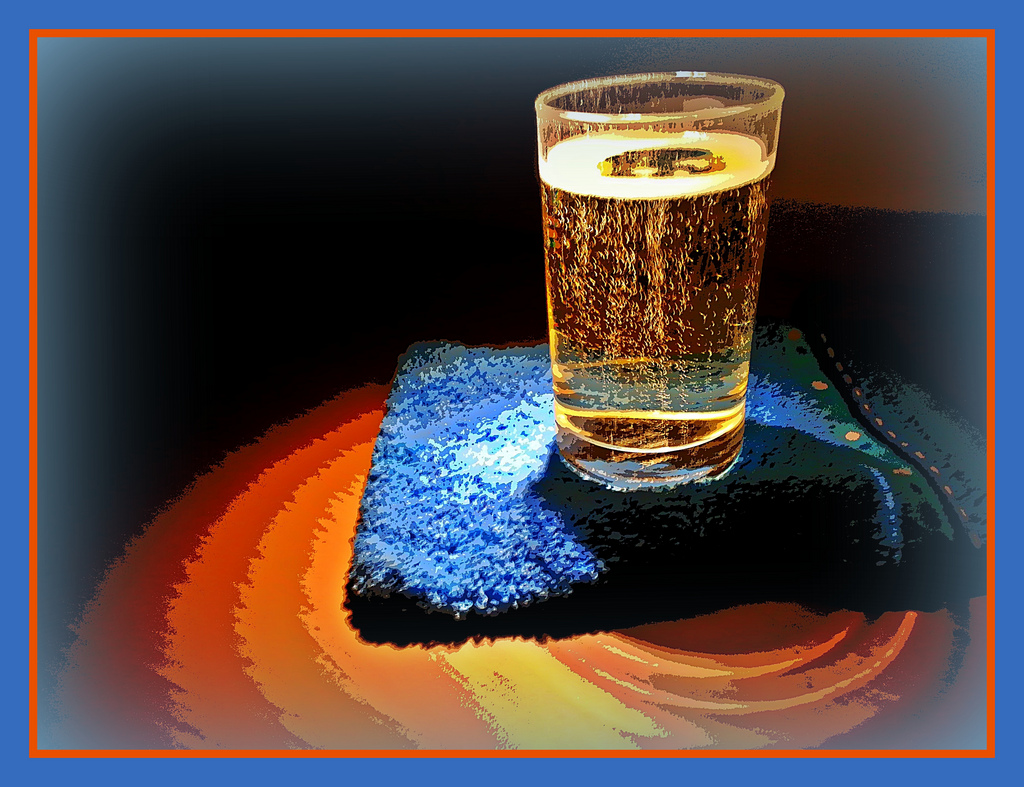glass of water: (541, 78, 779, 484)
